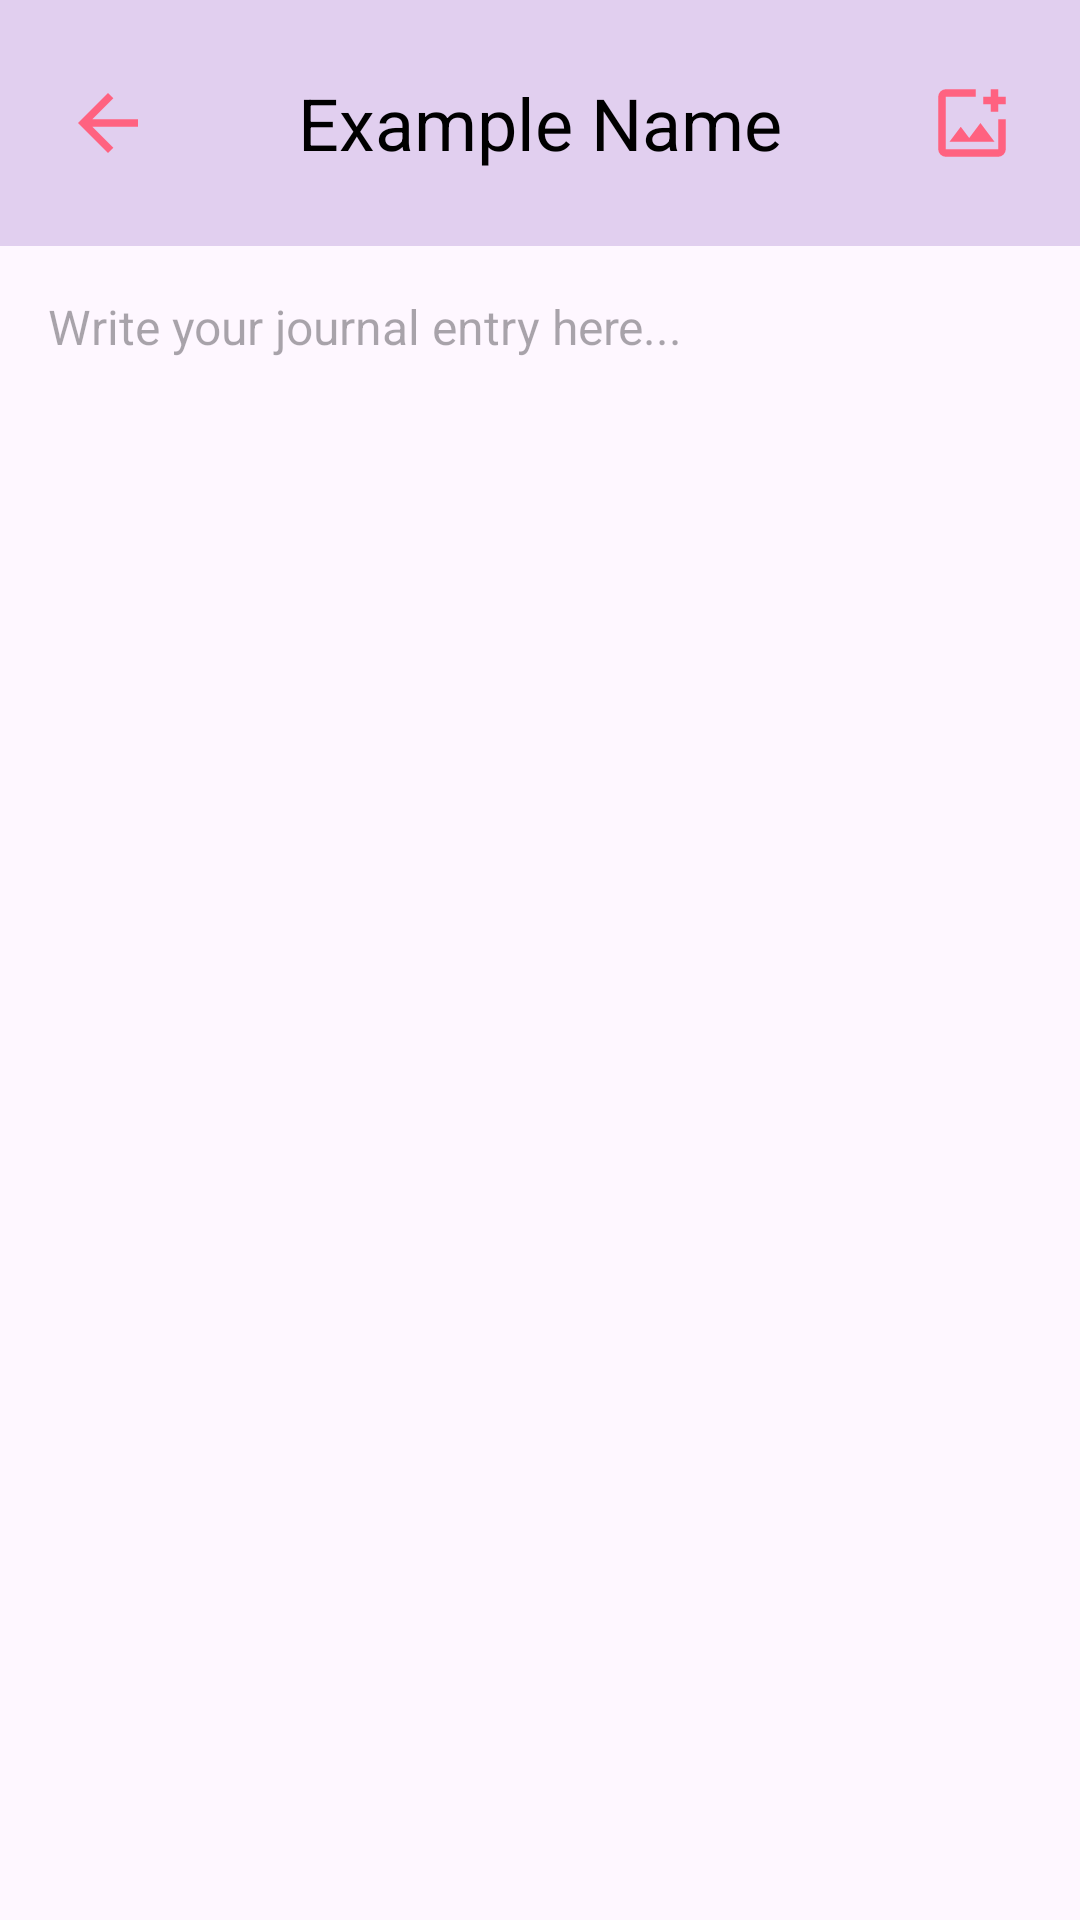

Locate icon controls on the screen. Image size 1080px x 1920px, boxes as (x1, y1, x2, y2).
add photo alternate: (938, 89, 1006, 157)
arrow back: (78, 93, 138, 153)
